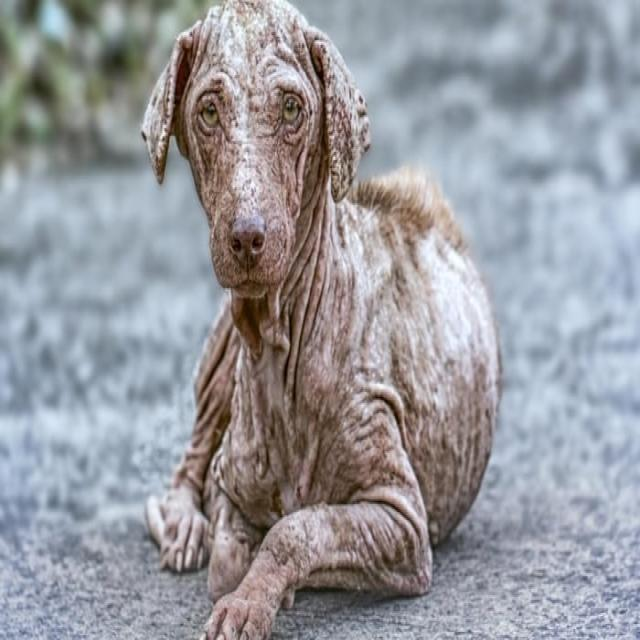mange: (384, 226, 496, 414), (328, 240, 414, 389), (252, 323, 326, 431), (243, 433, 327, 527), (288, 228, 350, 354), (326, 400, 382, 500), (200, 5, 254, 86), (228, 77, 271, 172), (250, 13, 300, 76)
